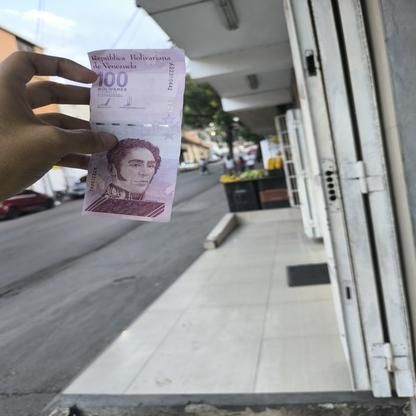one_hundred-front-vef: (80, 48, 185, 222)
